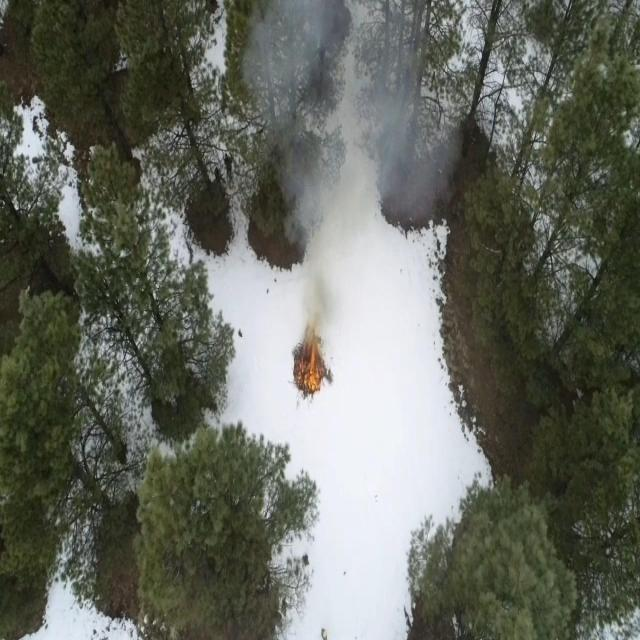Fire: (296, 327, 325, 396)
Smoke: (256, 10, 432, 314)
